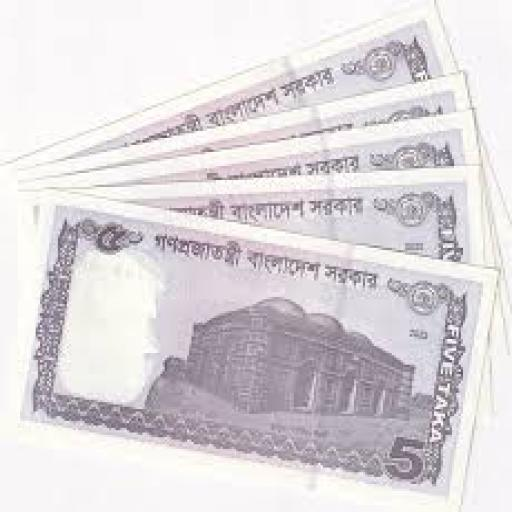5taka: (13, 194, 492, 510)
